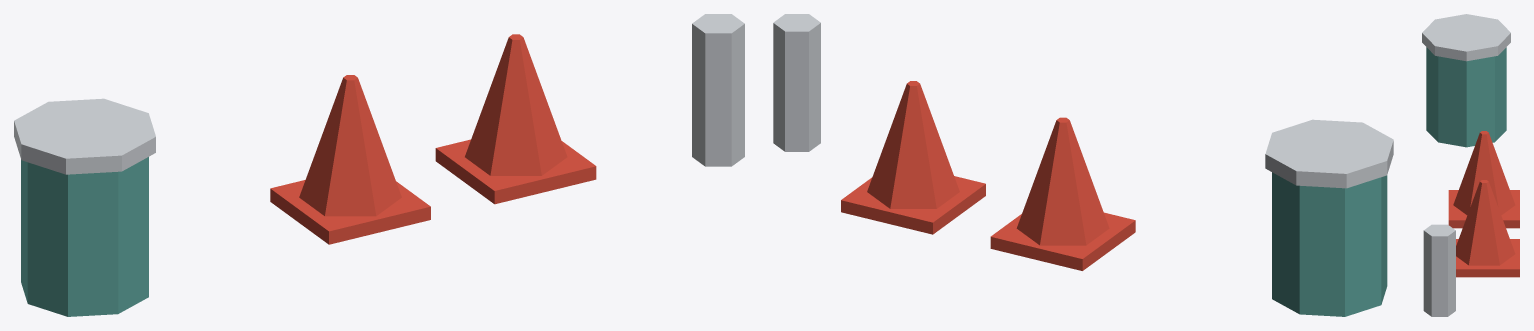
The model's file is d_bits.fbx.
3 renders of one model, left to right at view 1: azimuth 30°, elevation 25°; view 2: azimuth 150°, elevation 25°; view 3: azimuth 270°, elevation 25°, orthographic. The views are drawn at different scales.
Visible parts, largest first — view 1: d_bits; view 2: d_bits; view 3: d_bits.
Boxes of the visible parts, left/top/right/bottom form: d_bits: left=14, top=14, right=744, bottom=316; d_bits: left=773, top=14, right=1393, bottom=316; d_bits: left=1422, top=14, right=1519, bottom=316.
Size of the model in its own units: 5.46 by 1.21 by 1.1.
